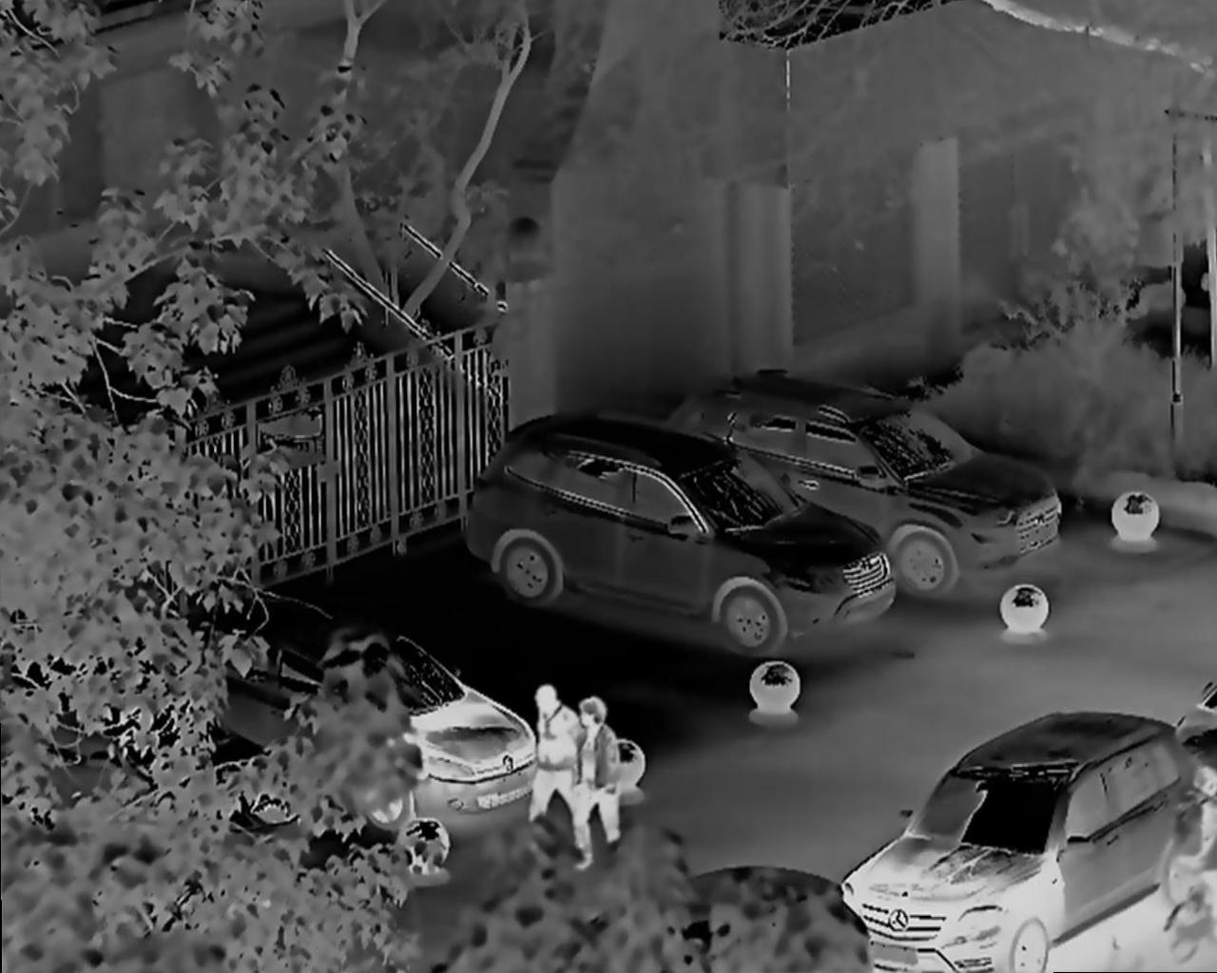person: (571, 701, 635, 863), (1174, 756, 1211, 973), (529, 675, 576, 832)
